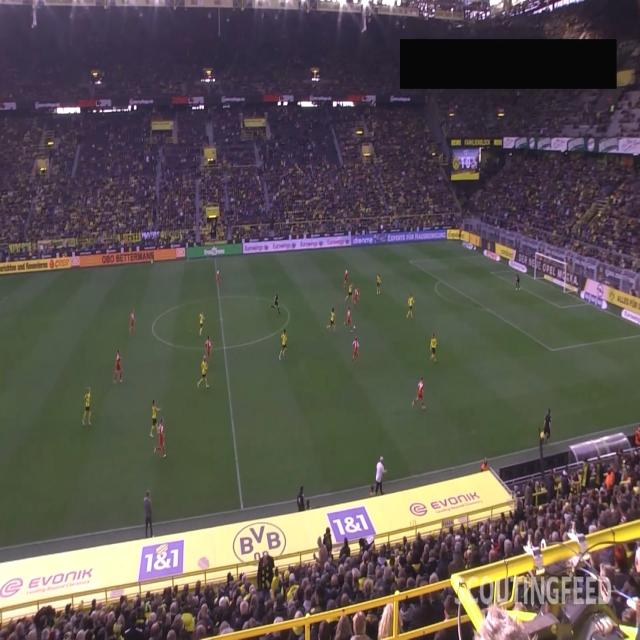ball: (352, 325, 356, 330)
f_player: (411, 374, 427, 412), (154, 418, 168, 460), (196, 354, 210, 390), (80, 387, 92, 427), (150, 398, 162, 438), (114, 351, 126, 386), (428, 331, 439, 363), (278, 329, 288, 361), (350, 336, 360, 366), (405, 292, 415, 322), (326, 308, 338, 332), (343, 306, 353, 334), (204, 336, 212, 366), (344, 281, 354, 303), (351, 286, 360, 309), (128, 310, 136, 334), (198, 310, 205, 336), (214, 266, 222, 288), (514, 272, 522, 293), (375, 274, 382, 296), (342, 266, 349, 288)
umpire: (542, 408, 552, 446), (270, 290, 282, 316)
